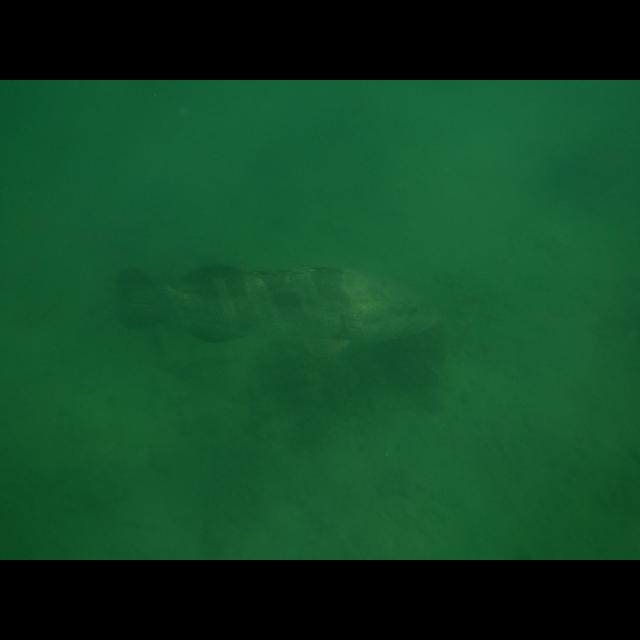Groupers: (108, 262, 442, 356)
